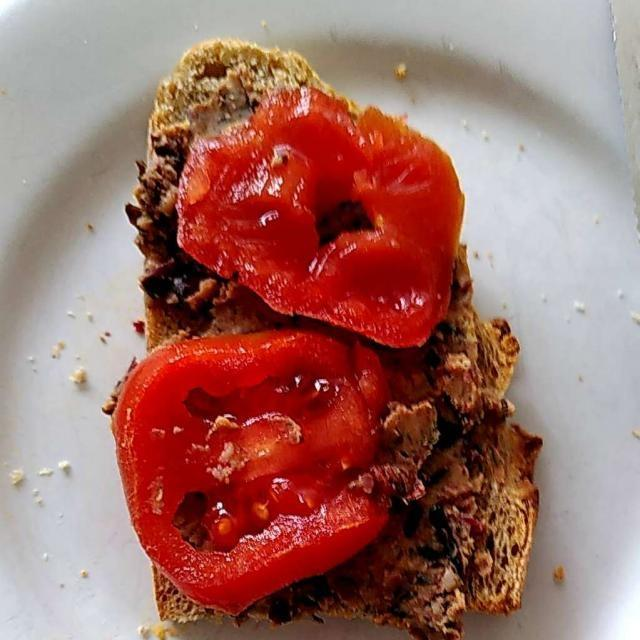bread: (176, 50, 528, 607)
tomato: (129, 107, 478, 597)
